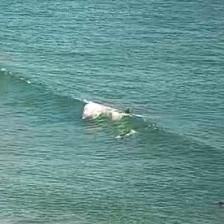surfer: (119, 130, 131, 137), (212, 201, 223, 208), (124, 107, 132, 114)
